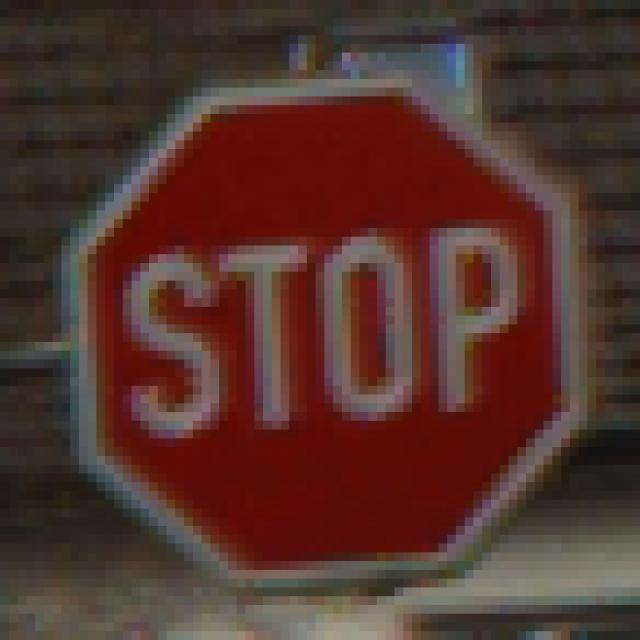STOP: (63, 63, 589, 589)
